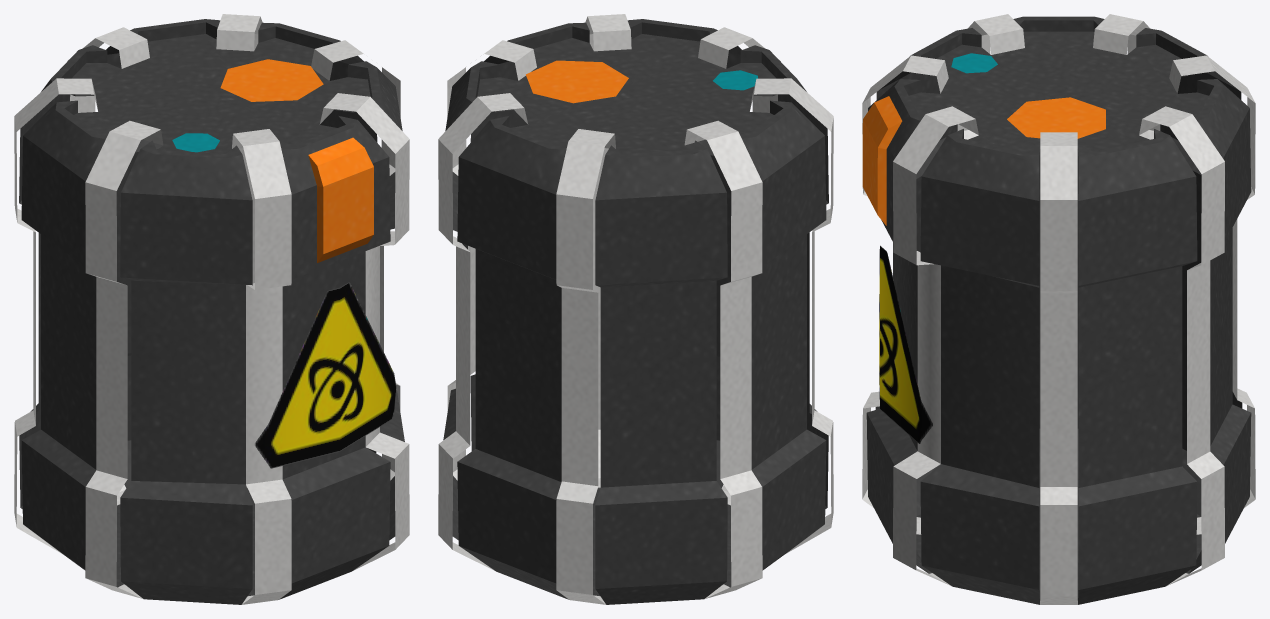
File: Barrel_1_LOD1.fbx
3 views of the same model, side by side, from view 1: azimuth 30°, elevation 25°; view 2: azimuth 150°, elevation 25°; view 3: azimuth 270°, elevation 25° (orthographic).
Visible parts, largest first — view 1: Barrel_1_LOD1; view 2: Barrel_1_LOD1; view 3: Barrel_1_LOD1.
Boxes of the visible parts, box(x1,y1,x2,y2) form: Barrel_1_LOD1: box(14, 14, 409, 604); Barrel_1_LOD1: box(438, 14, 833, 604); Barrel_1_LOD1: box(862, 14, 1255, 604).
Size of the model in its own units: 78.53 by 102 by 78.53.
